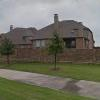Chimney: (45, 5, 65, 27)
